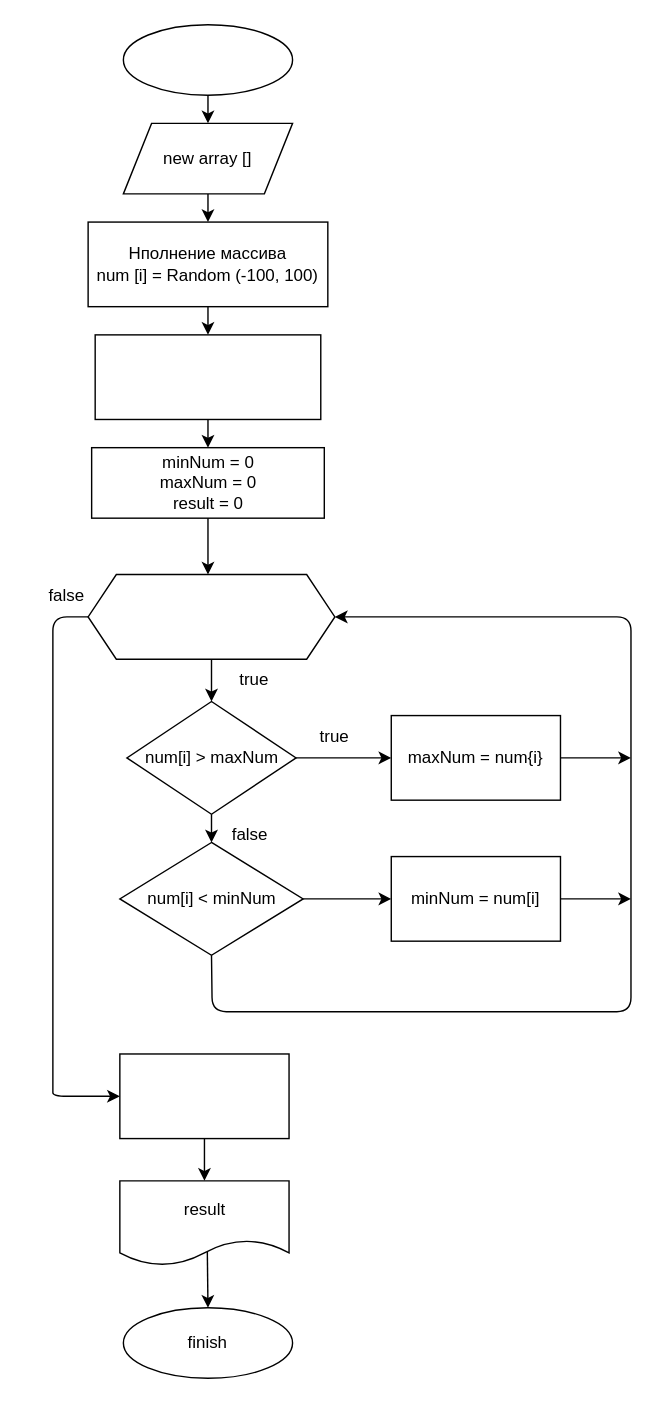
Image size: 667x1403. Some labels were removed from this diagram. Here are the shapes that lost their labels. From the top down, the centre of each, then its label:
[207,59]: start
[207,376]: вывод массива на экран
[211,616]: i = 0; i < array.Length; i++
[203,1096]: result = maxNum - minNum
